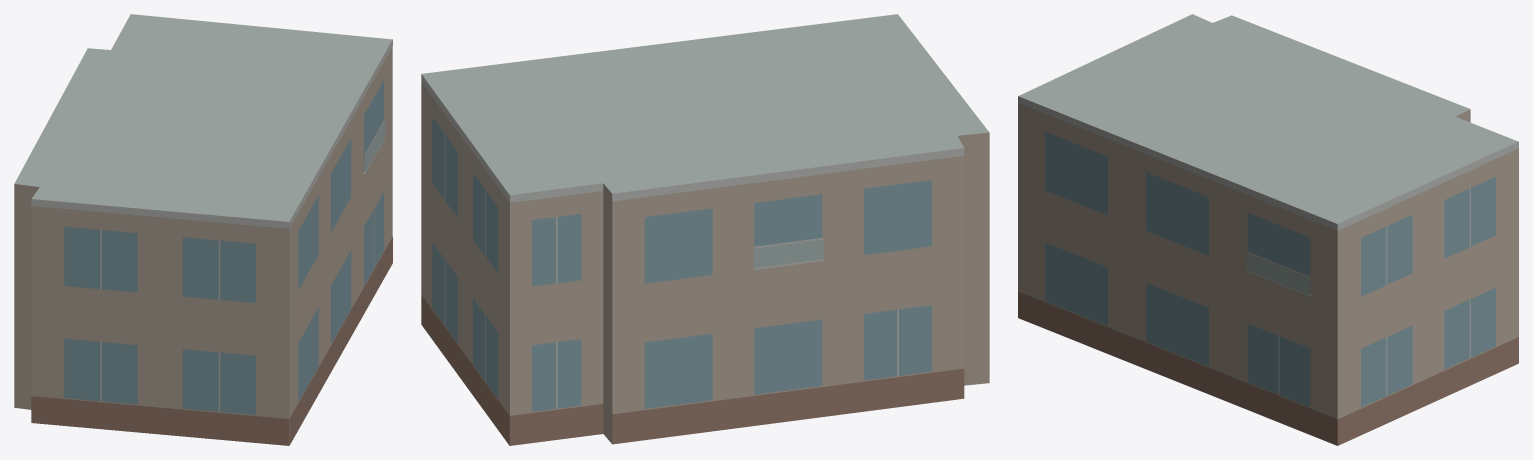
File: survey-upis-32886012.glb
3 views of the same model, side by side, from view 1: azimuth 30°, elevation 25°; view 2: azimuth 150°, elevation 25°; view 3: azimuth 270°, elevation 25° (orthographic). The views are drawn at different scales.
Parts seen in each view (by area): view 1: survey-upis-32886012.tmp; view 2: survey-upis-32886012.tmp; view 3: survey-upis-32886012.tmp.
Boxes of the visible parts, box(x1,y1,x2,y2) form: survey-upis-32886012.tmp: box(14, 14, 392, 445); survey-upis-32886012.tmp: box(421, 14, 989, 445); survey-upis-32886012.tmp: box(1018, 14, 1518, 445).
Bounding box in the file's own units: 16.15 × 7.95 × 16.27.
